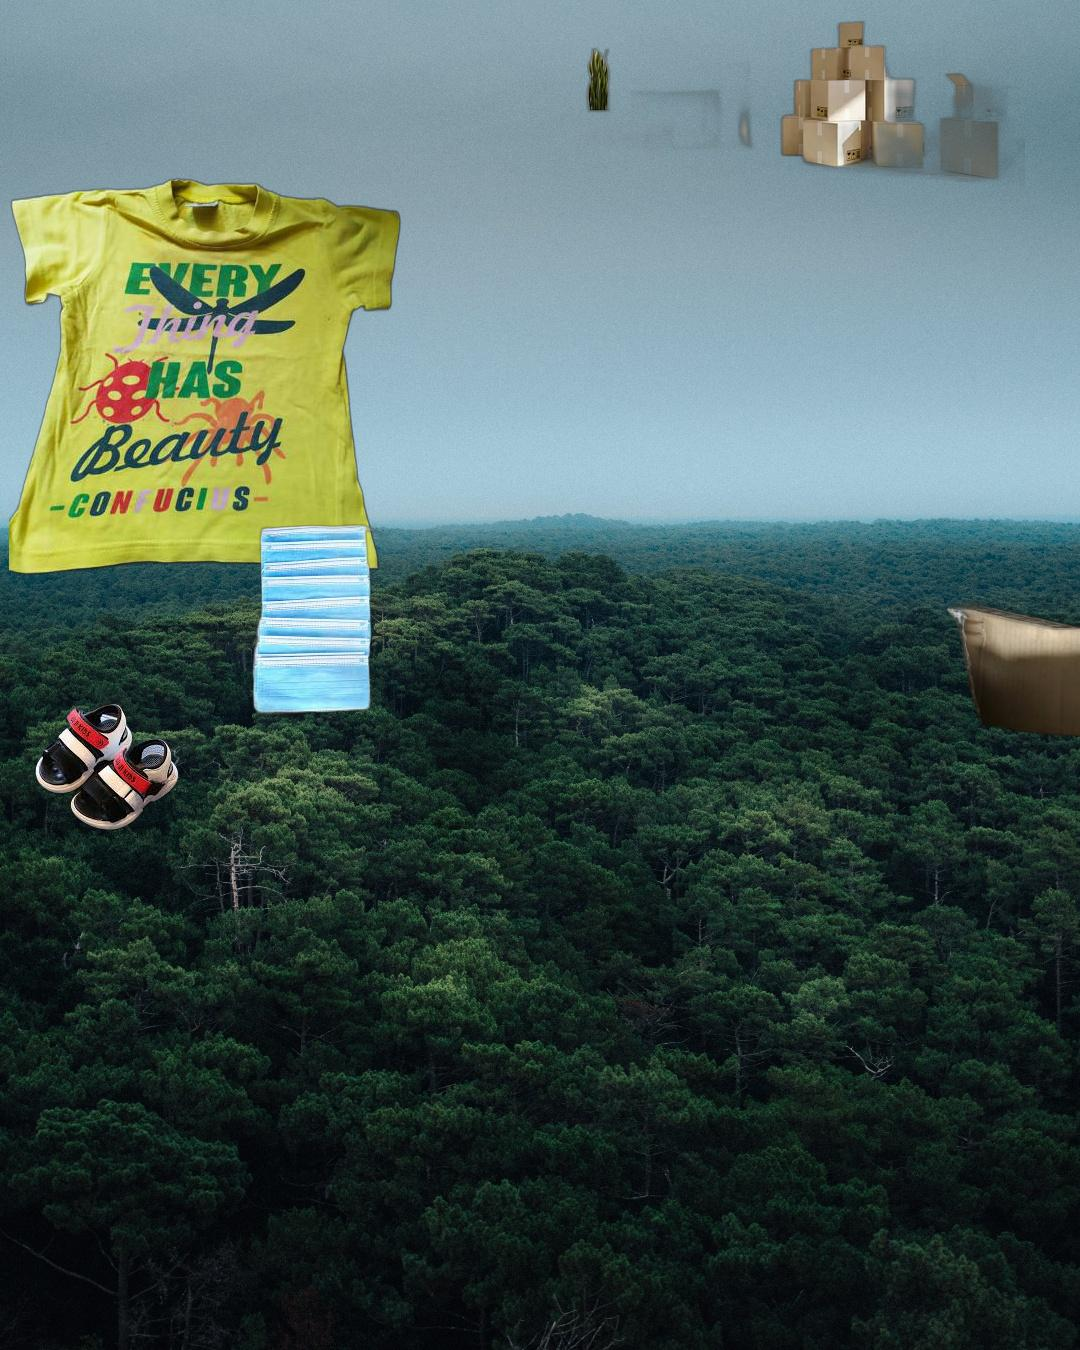clothes: (9, 174, 403, 579)
shoes: (33, 701, 181, 833)
trash: (248, 522, 409, 722)
trashbox-cardboard: (802, 533, 1080, 842), (582, 18, 1025, 210)
